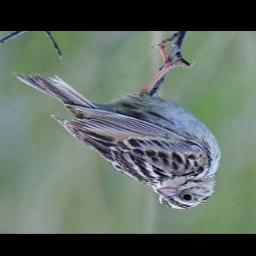Sparrow: (11, 39, 220, 210)
